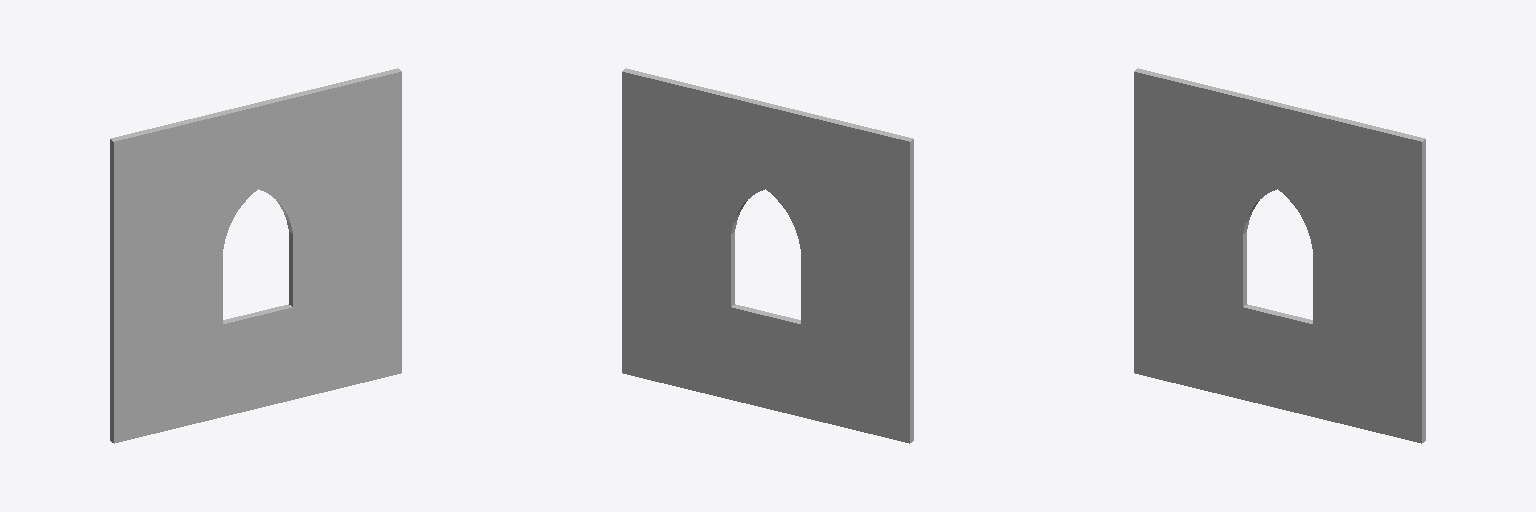
Rendered from window wall.obj.
The picture shows the model from 3 angles: view 1: azimuth 30°, elevation 25°; view 2: azimuth 150°, elevation 25°; view 3: azimuth 330°, elevation 25°; orthographic projection.
Visible parts, largest first — view 1: pCube55; view 2: pCube55; view 3: pCube55.
Part boxes in pixels (bbox=[...]): pCube55: bbox=[110, 68, 401, 443]; pCube55: bbox=[622, 68, 913, 443]; pCube55: bbox=[1134, 68, 1425, 443].
Bounding box in the file's own units: 400 × 400 × 10.19.